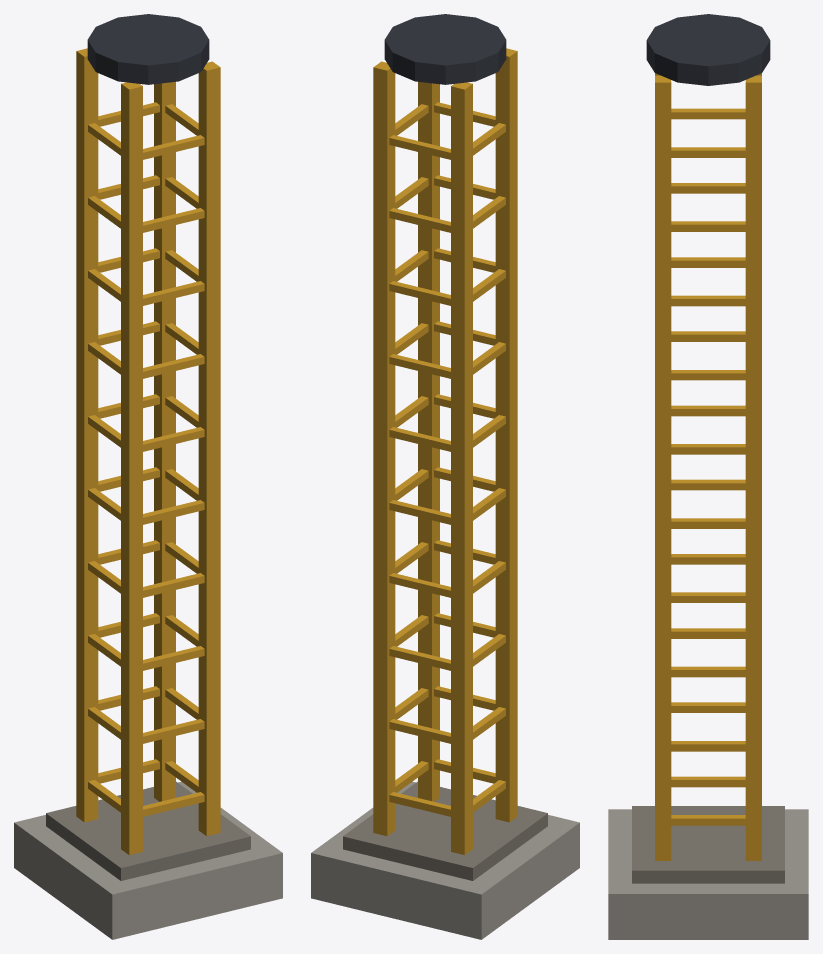
The model's file is v2-crane-mast.glb.
3 views of the same model, side by side, from view 1: azimuth 30°, elevation 25°; view 2: azimuth 150°, elevation 25°; view 3: azimuth 270°, elevation 25° (orthographic).
Visible parts, largest first — view 1: v2-crane-mast; view 2: v2-crane-mast; view 3: v2-crane-mast.
Part boxes in pixels (box(x1,y1,x2,y2)): v2-crane-mast: box(14, 14, 282, 939); v2-crane-mast: box(311, 14, 579, 939); v2-crane-mast: box(608, 14, 808, 939).
Size of the model in its own units: 1.1 by 5.2 by 1.1.
